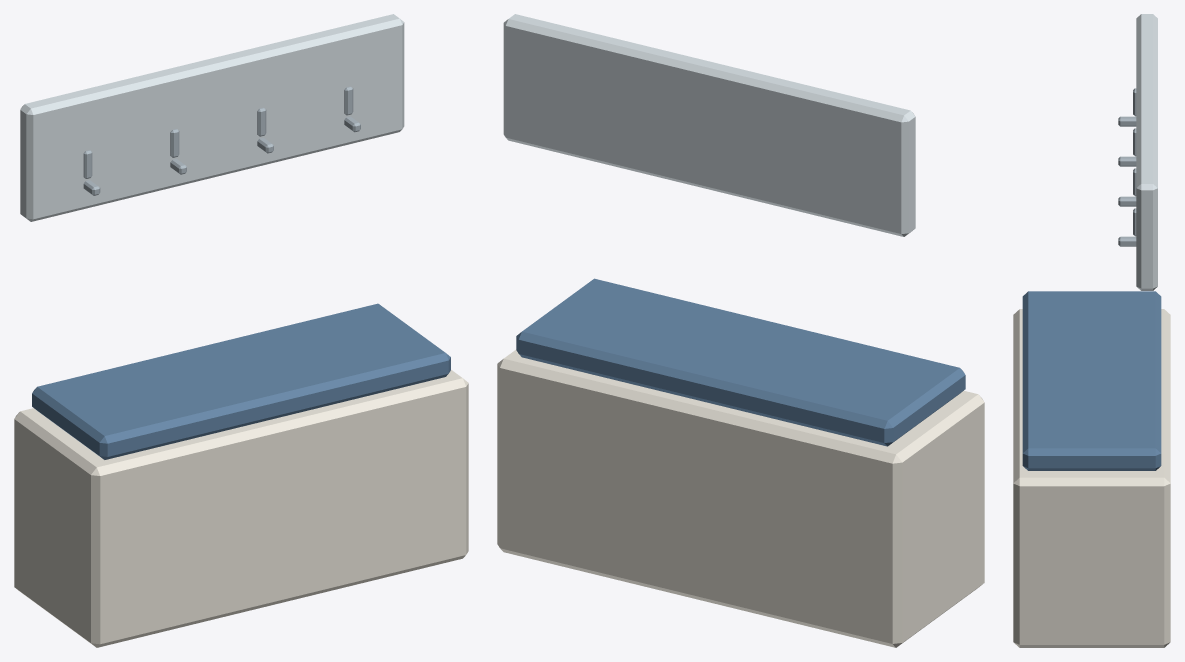
File: storage_09.glb
The picture shows the model from 3 angles, left to right: view 1: azimuth 30°, elevation 25°; view 2: azimuth 150°, elevation 25°; view 3: azimuth 270°, elevation 25°; orthographic projection. The views are drawn at different scales.
Visible parts, largest first — view 1: ShoeUnit, PegPanel, BenchPad; view 2: ShoeUnit, PegPanel, BenchPad; view 3: ShoeUnit, BenchPad, PegPanel.
Boxes of the visible parts, box(x1,y1,x2,y2) form: ShoeUnit: box(14, 370, 468, 647); PegPanel: box(20, 14, 404, 221); BenchPad: box(32, 303, 450, 459); ShoeUnit: box(497, 349, 984, 647); PegPanel: box(503, 14, 915, 236); BenchPad: box(516, 278, 965, 446); ShoeUnit: box(1013, 309, 1170, 647); BenchPad: box(1022, 291, 1161, 470); PegPanel: box(1136, 14, 1157, 290).
Bounding box in the file's own units: 1.15 × 1.43 × 0.44.
